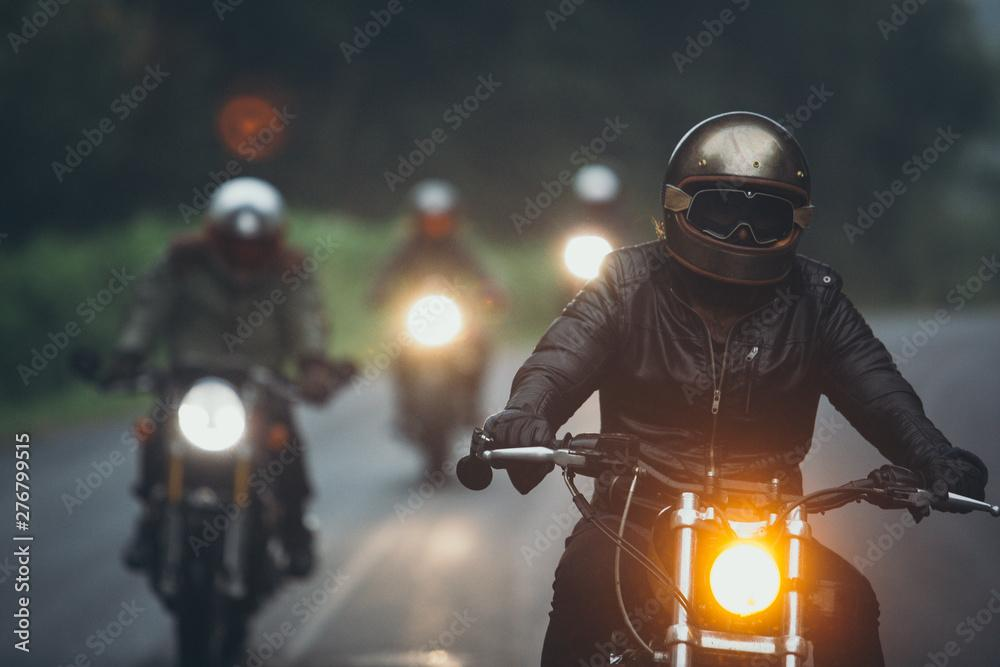helmet: (659, 109, 816, 291)
